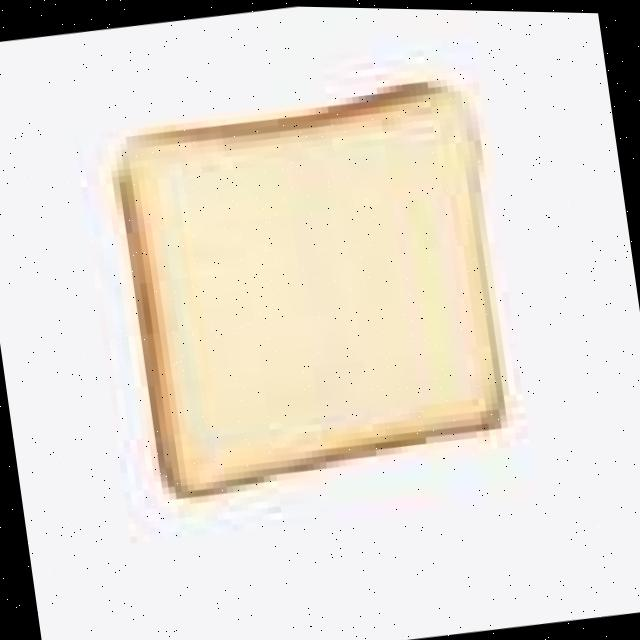Bread: (116, 84, 500, 492)
